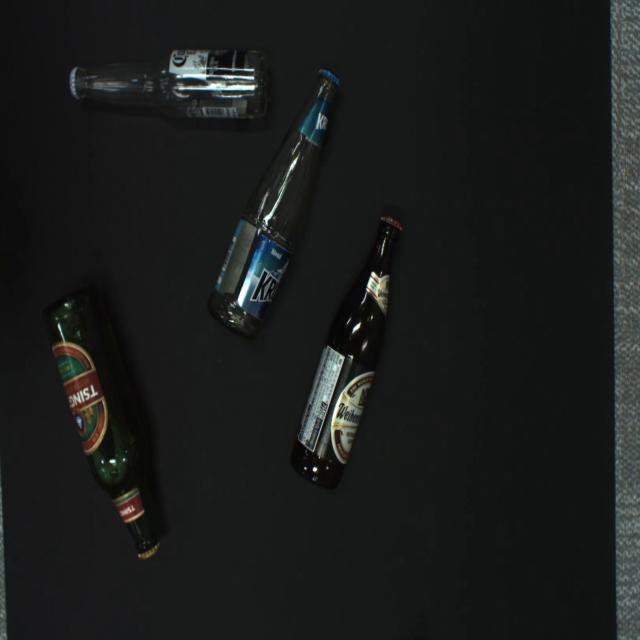beer-bottle: (208, 67, 341, 341), (43, 288, 161, 562), (290, 216, 403, 490), (69, 50, 269, 119)
